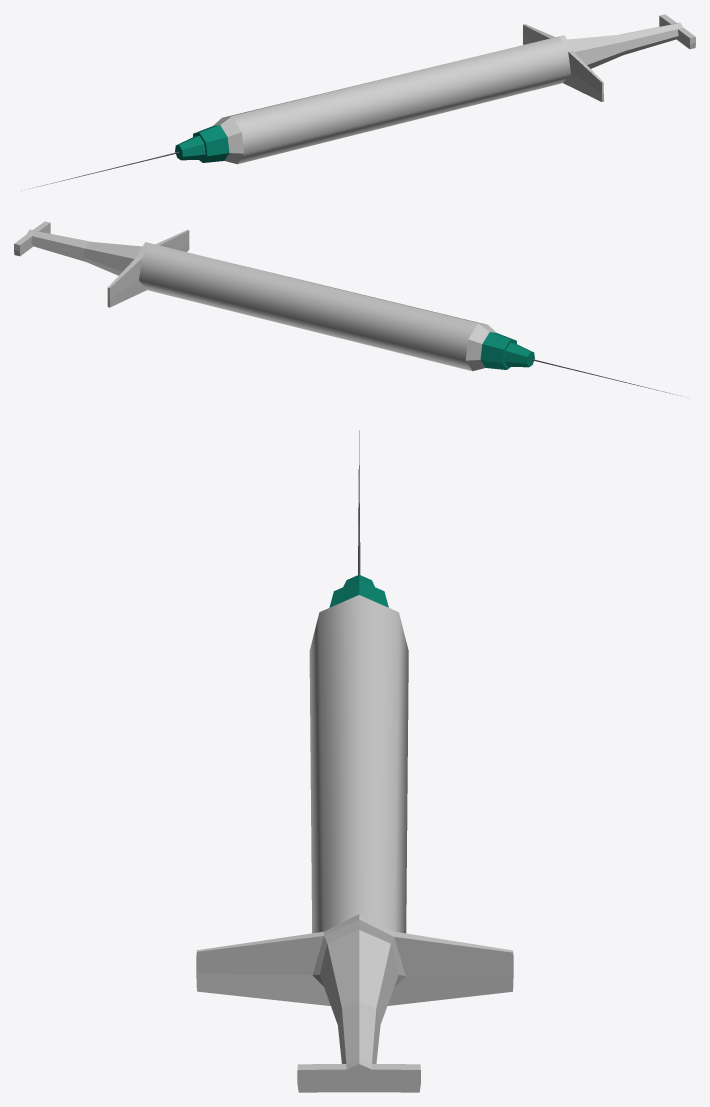
The model's file is Syringe.obj.
3 views of the same model, one above another, from view 1: azimuth 30°, elevation 25°; view 2: azimuth 150°, elevation 25°; view 3: azimuth 270°, elevation 25° (orthographic). The views are drawn at different scales.
Visible parts, largest first — view 1: Syringe, Object005; view 2: Syringe, Object005; view 3: Syringe, Object005.
Part boxes in pixels (x1=…): Syringe: x1=213, y1=14, x2=695, y2=164; Object005: x1=175, y1=125, x2=229, y2=162; Syringe: x1=14, y1=221, x2=496, y2=371; Object005: x1=480, y1=332, x2=534, y2=369; Syringe: x1=196, y1=595, x2=513, y2=1092; Object005: x1=329, y1=574, x2=388, y2=607.
Size of the model in its own units: 26.05 by 1.65 by 5.37.
